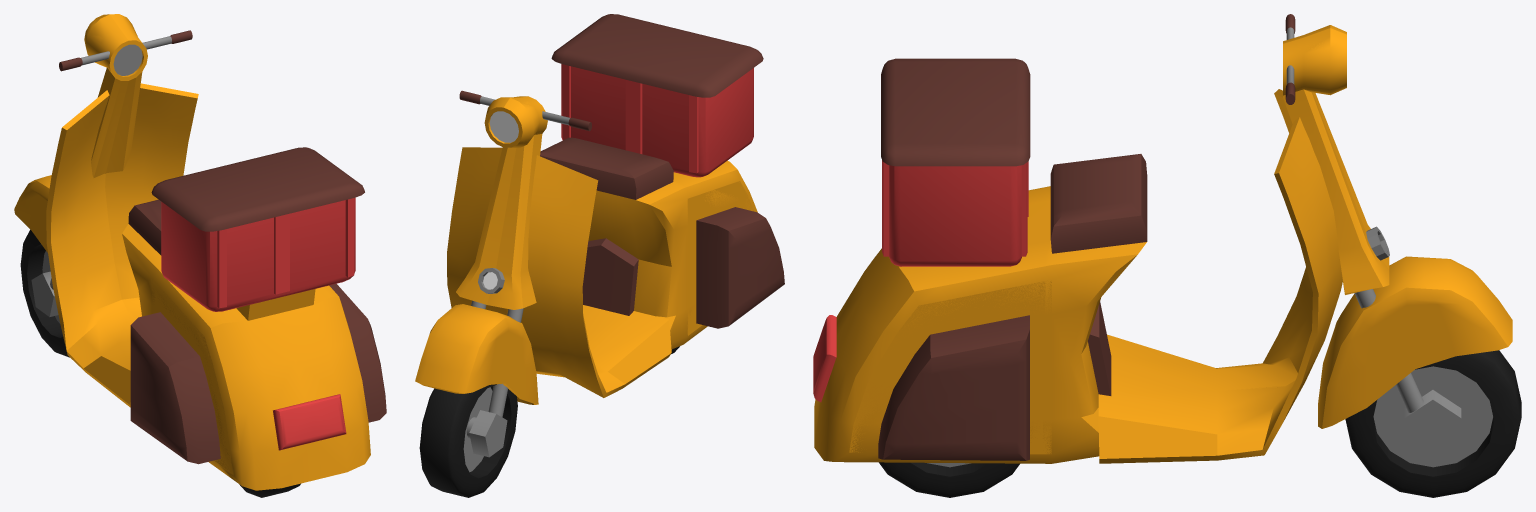
The model's file is scooter.glb.
The picture shows the model from 3 angles, left to right: view 1: azimuth 30°, elevation 25°; view 2: azimuth 150°, elevation 25°; view 3: azimuth 270°, elevation 25°; orthographic projection. The views are drawn at different scales.
Visible parts, largest first — view 1: body, box, box_cap, handle, tyre-1, front_sheild, suspention; view 2: body, box, box_cap, front_sheild, tyre-1, handle, suspention, small_light; view 3: body, front_sheild, box_cap, tyre-1, box, handle, tyre-2, suspention.
Boxes of the visible parts, x1=… form: body: x1=46, y1=68, x2=386, y2=490; box: x1=161, y1=197, x2=355, y2=311; box_cap: x1=151, y1=147, x2=364, y2=231; handle: x1=59, y1=14, x2=192, y2=80; tyre-1: x1=20, y1=229, x2=69, y2=357; front_sheild: x1=14, y1=175, x2=51, y2=252; suspention: x1=31, y1=271, x2=58, y2=316; body: x1=447, y1=134, x2=784, y2=397; box: x1=561, y1=64, x2=753, y2=177; box_cap: x1=551, y1=14, x2=763, y2=97; front_sheild: x1=415, y1=304, x2=538, y2=404; tyre-1: x1=419, y1=384, x2=517, y2=497; handle: x1=459, y1=90, x2=591, y2=148; suspention: x1=469, y1=300, x2=523, y2=457; small_light: x1=478, y1=268, x2=504, y2=293; body: x1=813, y1=89, x2=1389, y2=463; front_sheild: x1=1318, y1=256, x2=1512, y2=428; box_cap: x1=881, y1=58, x2=1030, y2=166; tyre-1: x1=1345, y1=350, x2=1521, y2=497; box: x1=882, y1=160, x2=1028, y2=266; handle: x1=1283, y1=14, x2=1346, y2=104; tyre-2: x1=879, y1=462, x2=1019, y2=497; suspention: x1=1354, y1=289, x2=1461, y2=448.
Bounding box in the file's own units: 1.39 × 2.35 × 3.27.
Materials: 4 (4 with a texture image).
